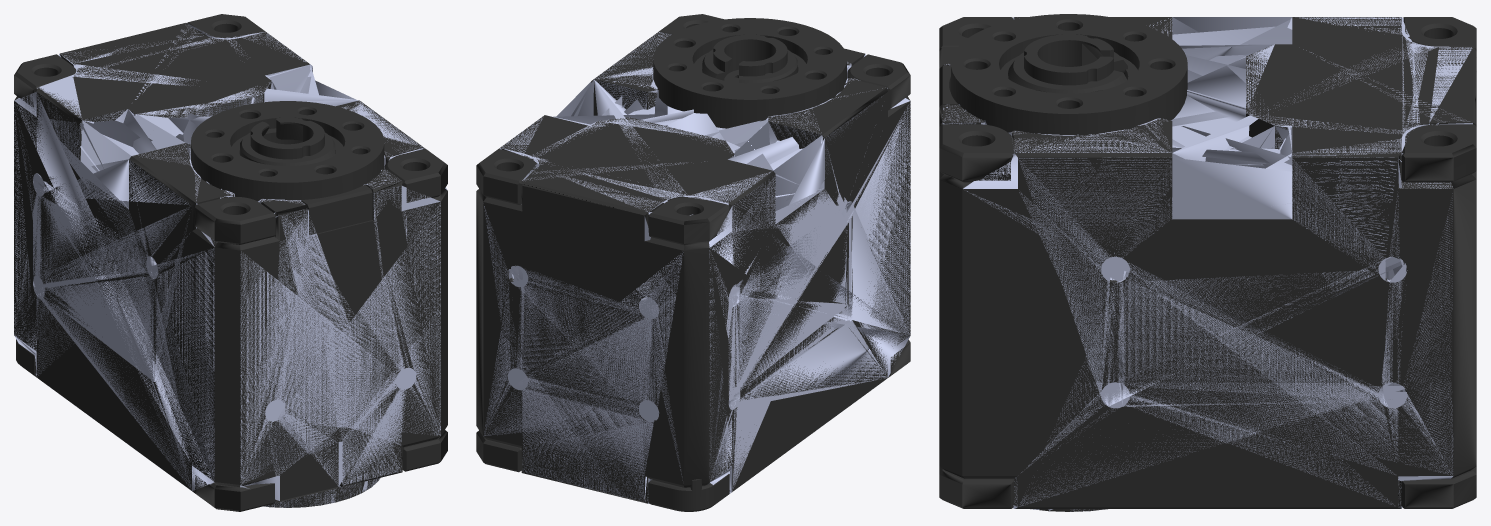
The model's file is lleg_link4.dae.
3 views of the same model, side by side, from view 1: azimuth 30°, elevation 25°; view 2: azimuth 150°, elevation 25°; view 3: azimuth 270°, elevation 25° (orthographic). The views are drawn at different scales.
Visible parts, largest first — view 1: node0, node1, node2; view 2: node0, node1, node2; view 3: node0, node1, node2.
Boxes of the visible parts, <box> form: node0: <box>14,14,447,511</box>; node1: <box>14,33,447,507</box>; node2: <box>14,23,440,502</box>; node0: <box>476,14,910,511</box>; node1: <box>484,33,910,503</box>; node2: <box>484,32,910,491</box>; node0: <box>939,14,1476,511</box>; node1: <box>942,17,1472,511</box>; node2: <box>942,17,1472,510</box>.
Bounding box in the file's own units: 0.0285 × 0.0409 × 0.0465.
